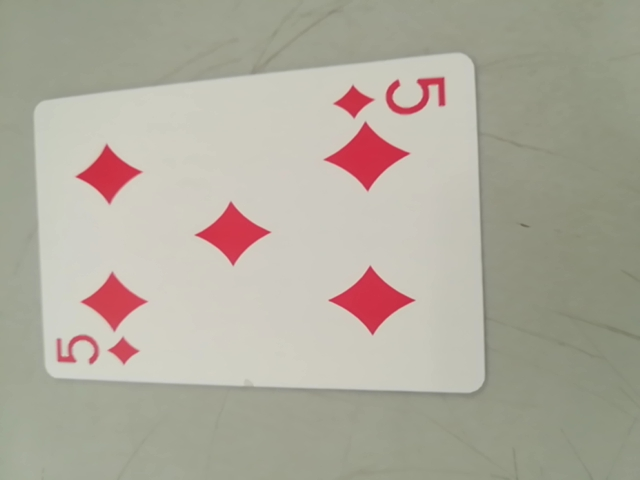fk 5: (335, 68, 452, 123), (51, 328, 143, 375)
